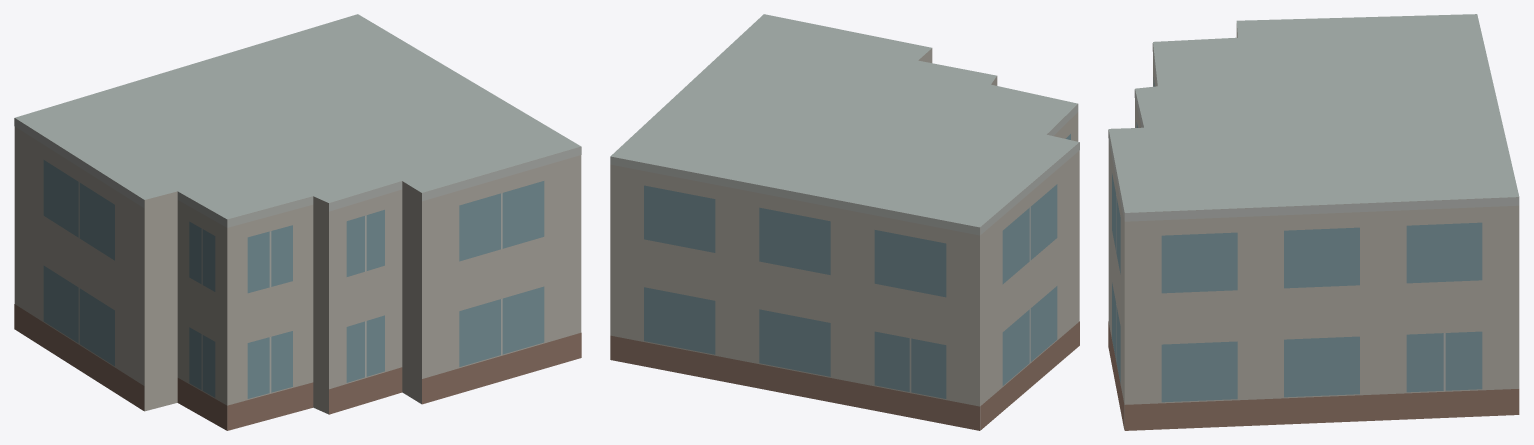
File: survey-upis-32701362.glb
3 renders of one model, left to right at view 1: azimuth 30°, elevation 25°; view 2: azimuth 150°, elevation 25°; view 3: azimuth 270°, elevation 25°, orthographic. The views are drawn at different scales.
Parts seen in each view (by area): view 1: survey-upis-32701362.tmp; view 2: survey-upis-32701362.tmp; view 3: survey-upis-32701362.tmp.
Boxes of the visible parts, left/top/right/bottom form: survey-upis-32701362.tmp: left=14, top=14, right=581, bottom=430; survey-upis-32701362.tmp: left=610, top=14, right=1079, bottom=430; survey-upis-32701362.tmp: left=1108, top=14, right=1519, bottom=430.
Size of the model in its own units: 11.96 by 6.1 by 10.44.
